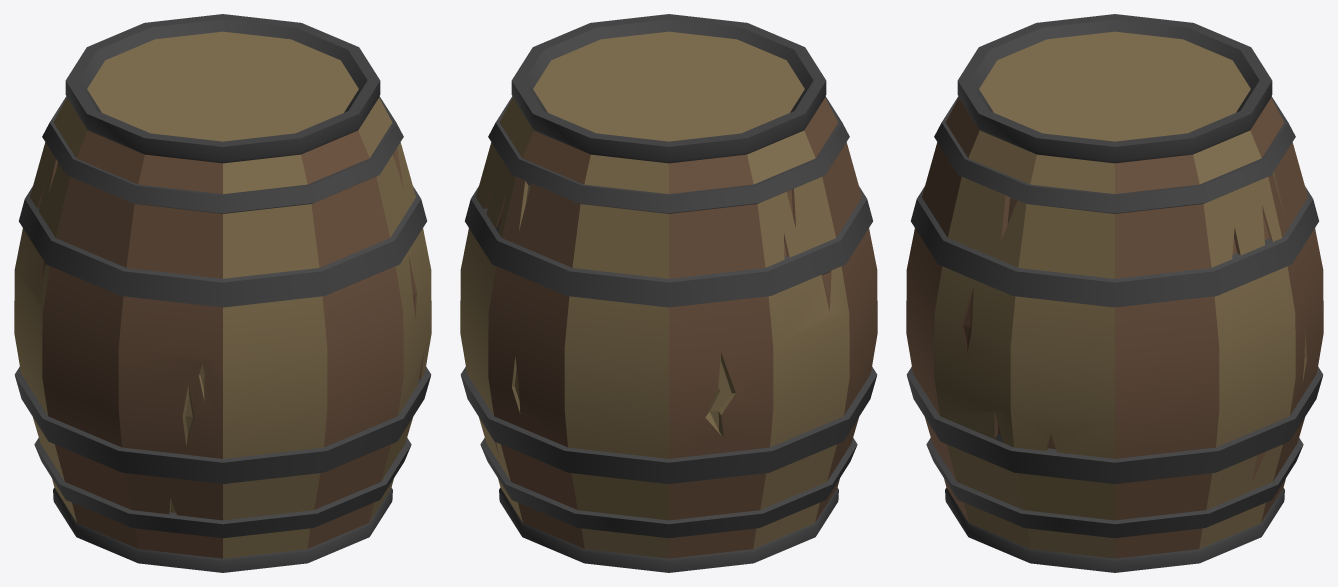
Rendered from Barrel.fbx.
3 renders of one model, left to right at view 1: azimuth 30°, elevation 25°; view 2: azimuth 150°, elevation 25°; view 3: azimuth 270°, elevation 25°, orthographic.
Parts seen in each view (by area): view 1: Cylinder; view 2: Cylinder; view 3: Cylinder.
Part boxes in pixels (x1,y1,x2,y2): Cylinder: (14, 14, 431, 572); Cylinder: (460, 14, 877, 572); Cylinder: (906, 14, 1323, 572).
Bounding box in the file's own units: 249 × 277 × 249.
